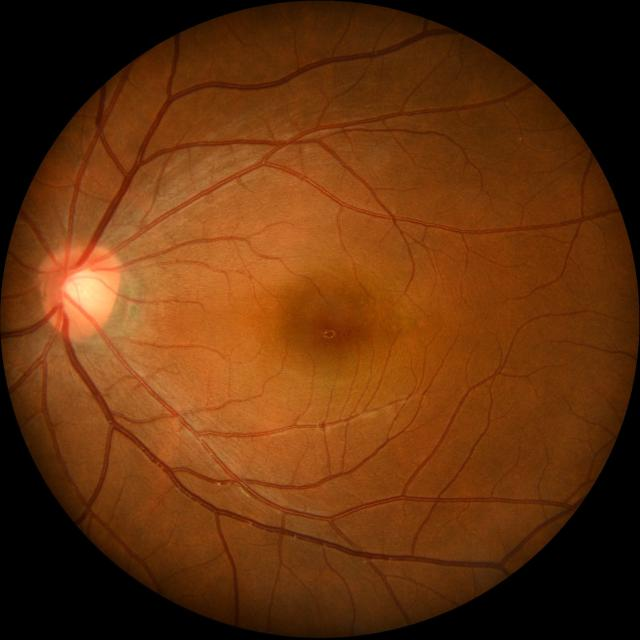OC: (61, 268, 101, 314)
OD: (38, 242, 119, 336)
